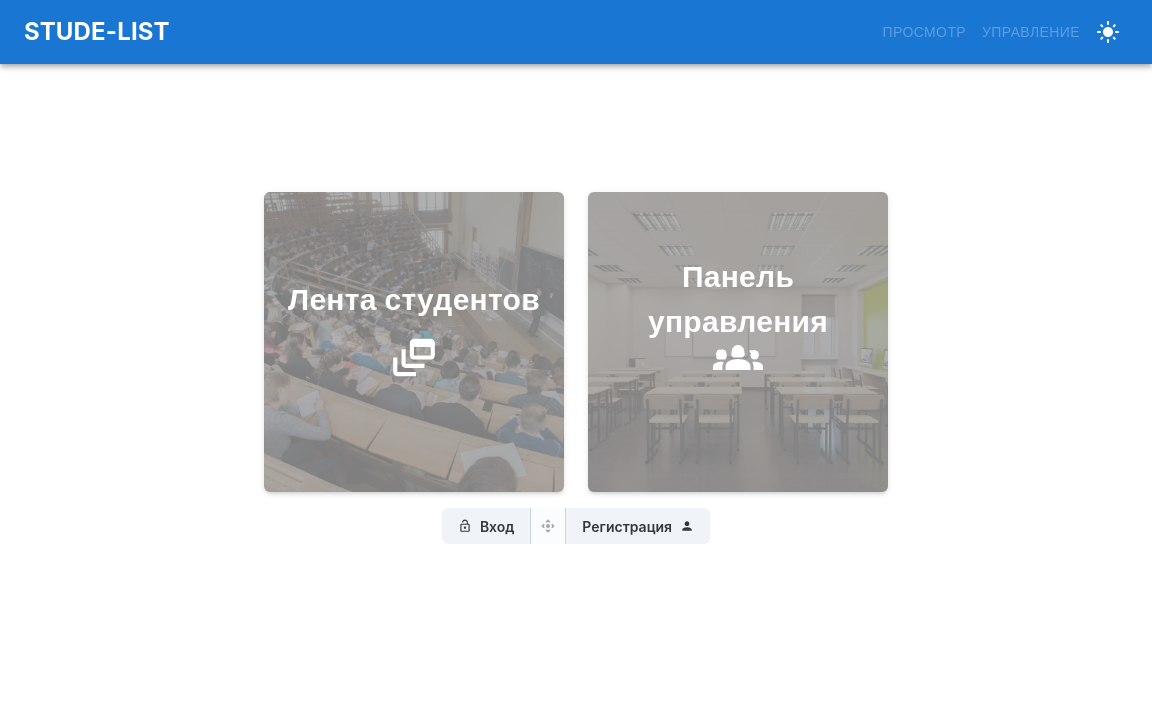
Test: Тестирование действий логинизации › При нажатии на крестик модалка авторизации должна закрываться
Click the button "Вход" at {"x": 487, "y": 526}, box [442,508,532,544]
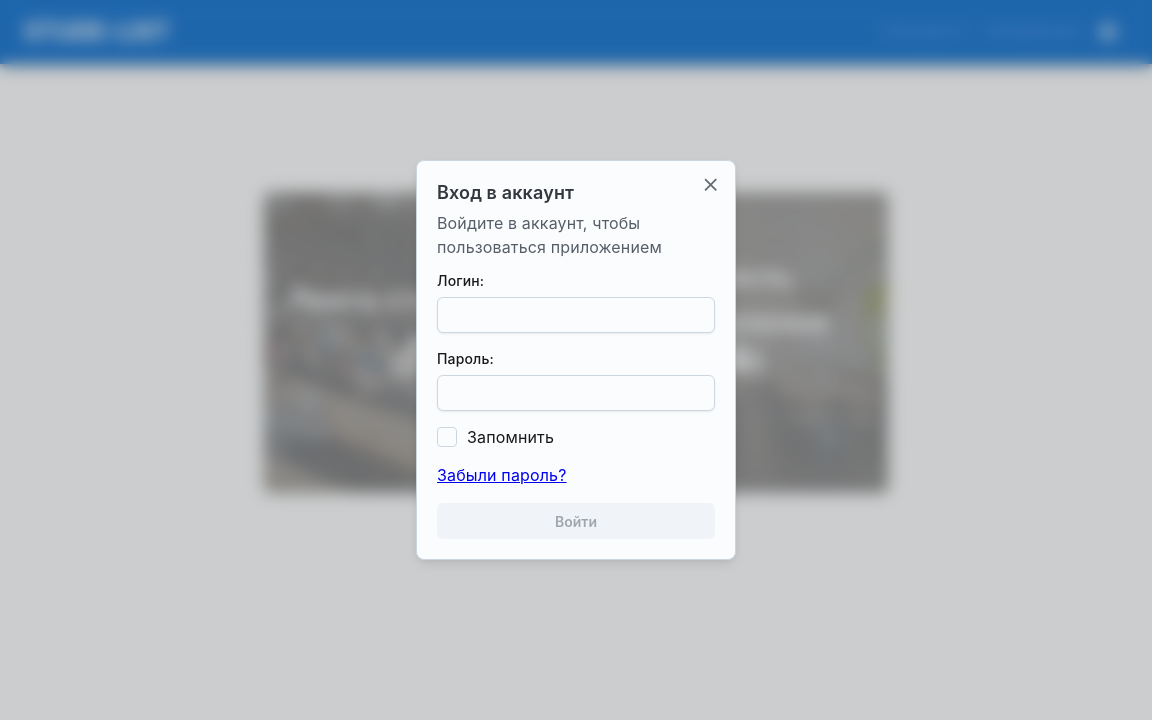
Click the button with test id "close-modal" at {"x": 711, "y": 185}, box [695,169,727,201]
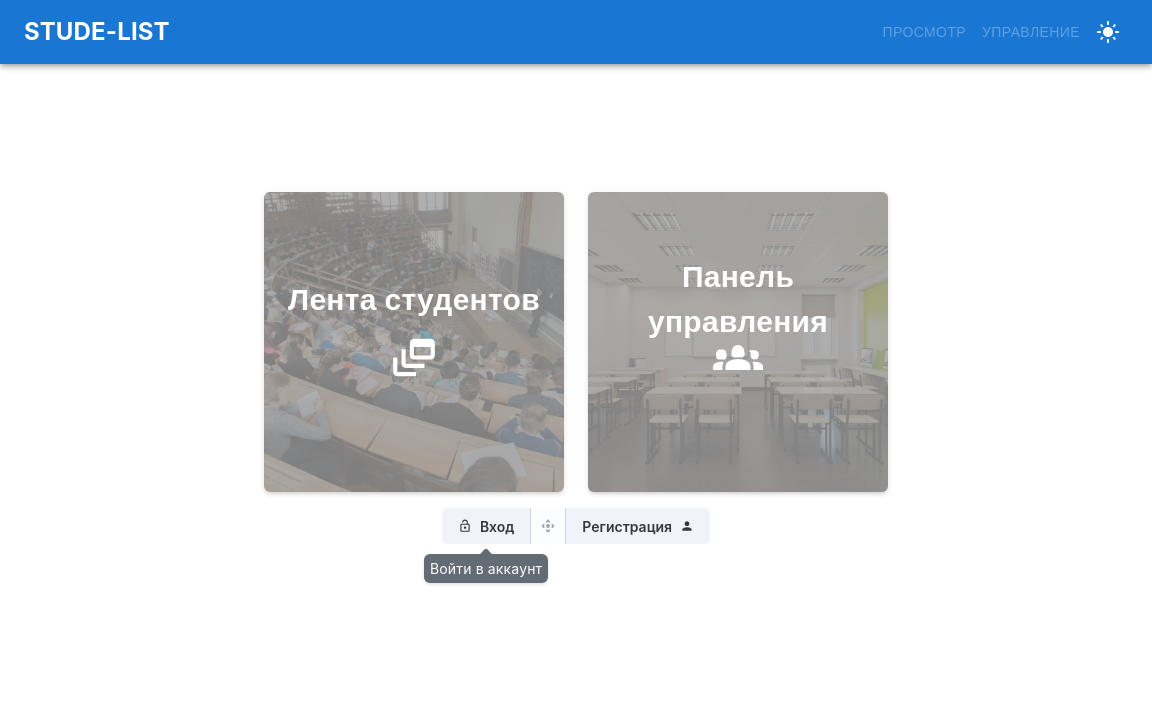
Check: the element with test id "login-modal" is gone
